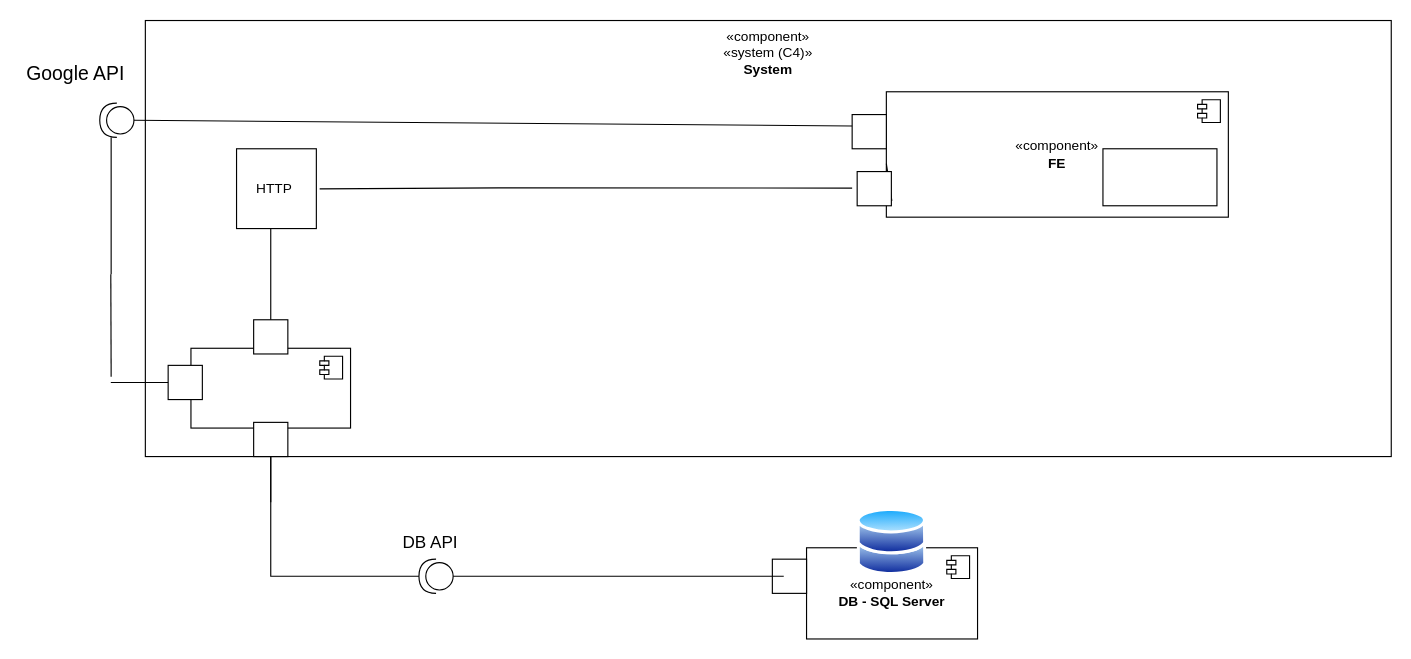
This 1411x659 diagram has some shape labels left out. The shapes that lost their labels are listed below. From the top down, each one's centre as x and y in pixels, then its label:
At [1159,177]: "<<component>> 3D Model".
At [270,387]: "«component» BE".
